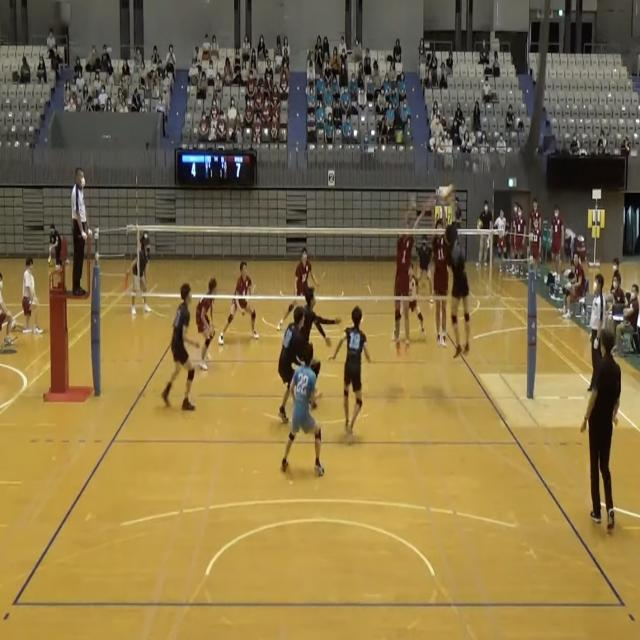spike: (434, 182, 474, 361)
